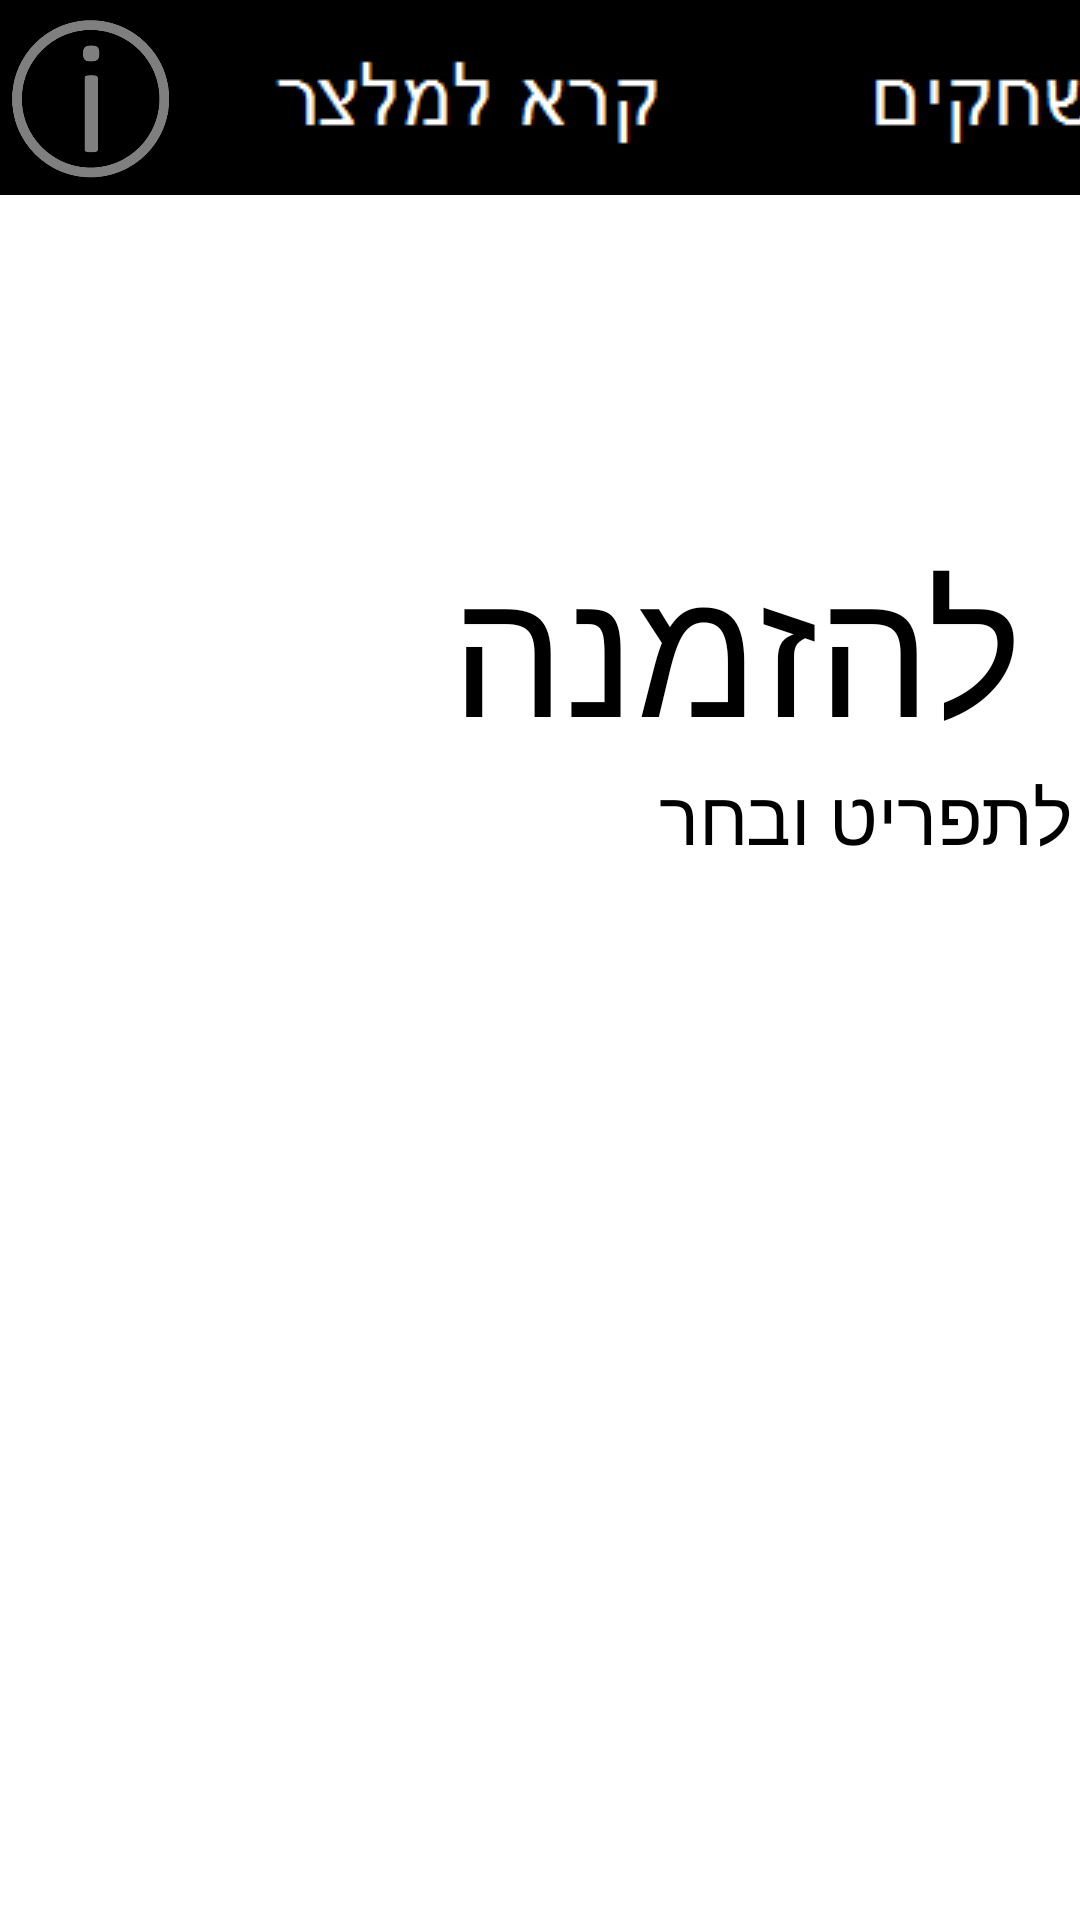

Icon bounding boxes for this 1080w x 1920h phone screenshot, format [x1=x1, y1=y1, x2=x2, y2=y2]:
infobtn: [x1=12, y1=20, x2=169, y2=178]
